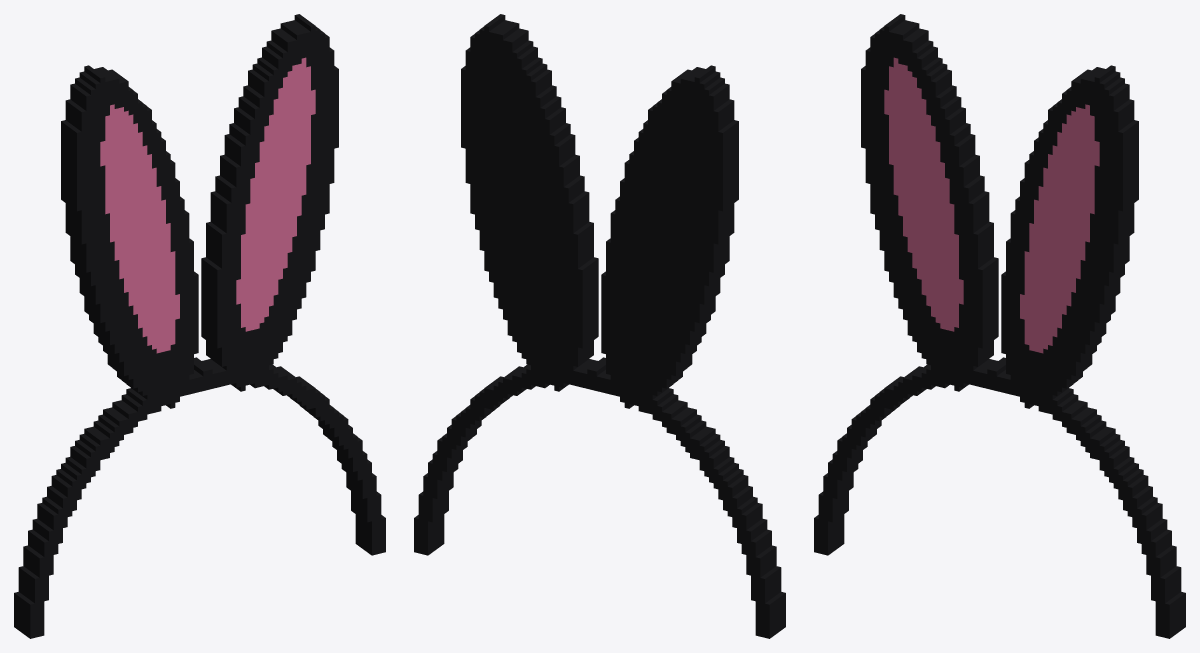
Rendered from bunny_ears_black.glb.
3 views of the same model, side by side, from view 1: azimuth 30°, elevation 25°; view 2: azimuth 150°, elevation 25°; view 3: azimuth 330°, elevation 25° (orthographic).
Parts seen in each view (by area): view 1: bunny_ears_black:compound; view 2: bunny_ears_black:compound; view 3: bunny_ears_black:compound.
Part boxes in pixels (<box>): bunny_ears_black:compound: <box>14,14,385,638</box>; bunny_ears_black:compound: <box>414,14,785,638</box>; bunny_ears_black:compound: <box>814,14,1185,638</box>.
Bounding box in the file's own units: 0.152 × 0.222 × 0.012.
